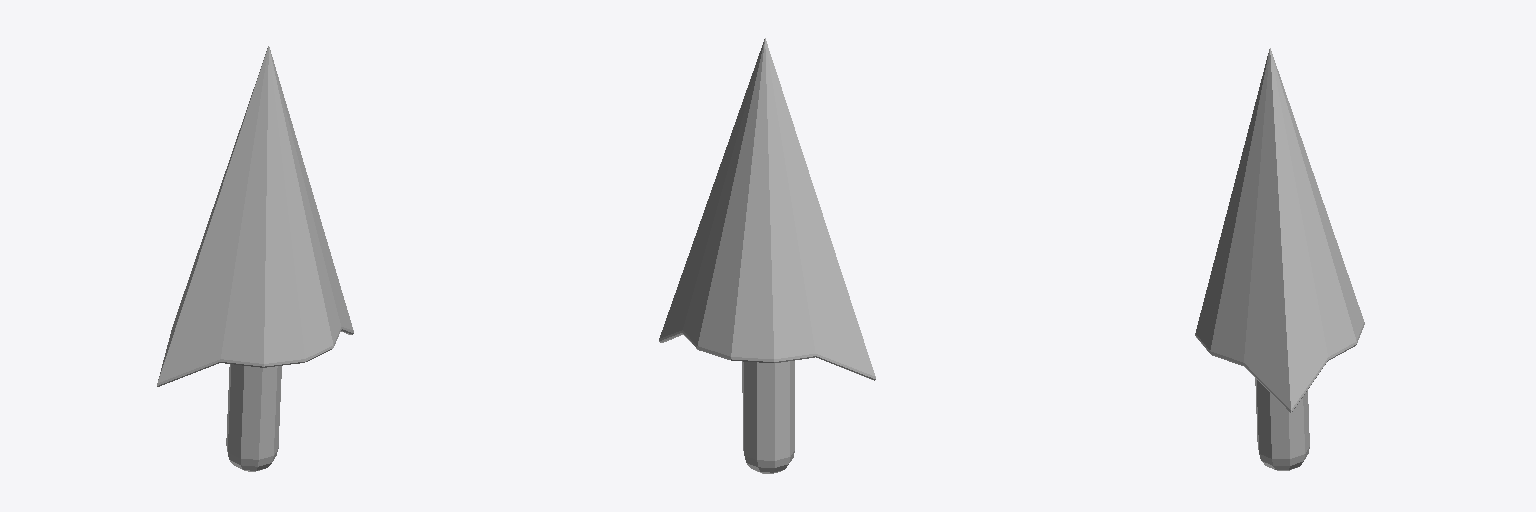
The model's file is flecha guia pj .obj.
The picture shows the model from 3 angles: view 1: azimuth 30°, elevation 25°; view 2: azimuth 150°, elevation 25°; view 3: azimuth 270°, elevation 25°; orthographic projection.
Parts seen in each view (by area): view 1: Cilindro; view 2: Cilindro; view 3: Cilindro.
Boxes of the visible parts, <box> form: Cilindro: <box>157,46,353,471</box>; Cilindro: <box>659,38,875,473</box>; Cilindro: <box>1195,48,1364,470</box>.
Bounding box in the file's own units: 1.73 × 3.4 × 1.23.